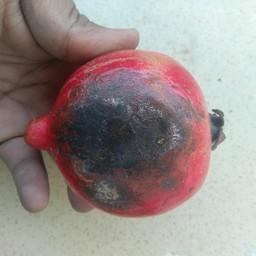Bad_pomegranate: (23, 48, 223, 216)
